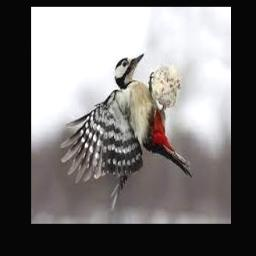Woodpecker: (60, 53, 193, 209)
